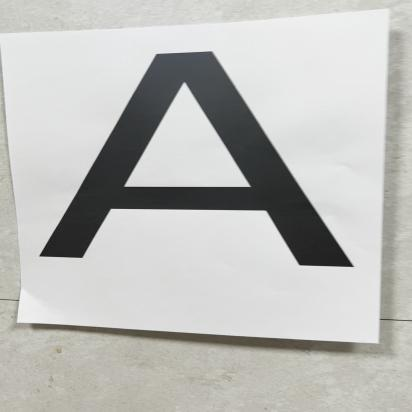seat: (16, 37, 372, 289)
